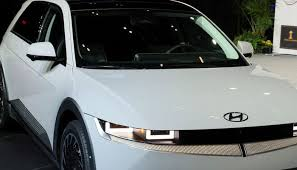Honda Ioniq: (2, 1, 297, 169)
